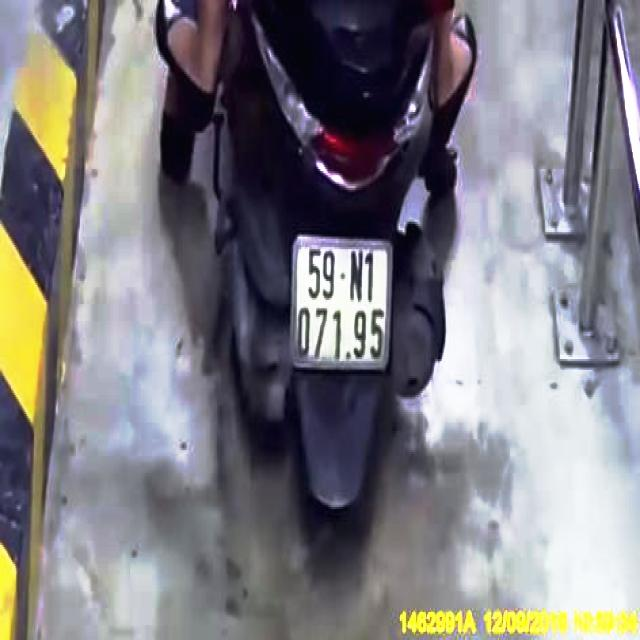license_plate: (293, 238, 393, 367)
